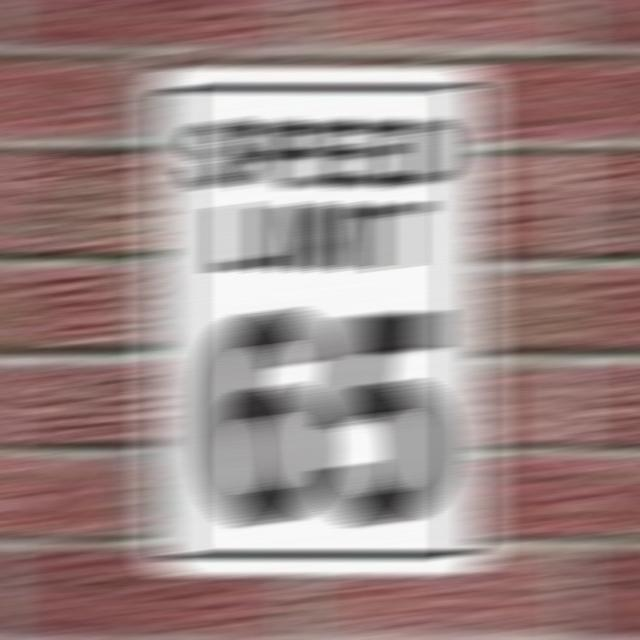speedLimit65: (145, 74, 495, 566)
